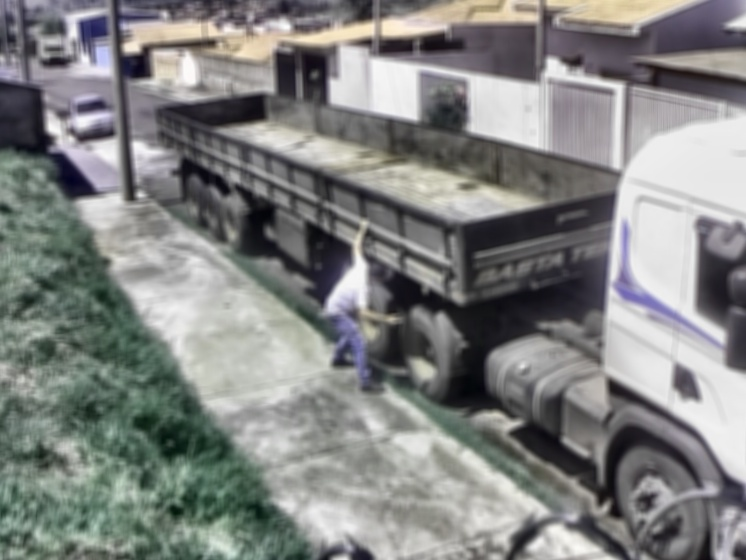person: (308, 218, 407, 395)
